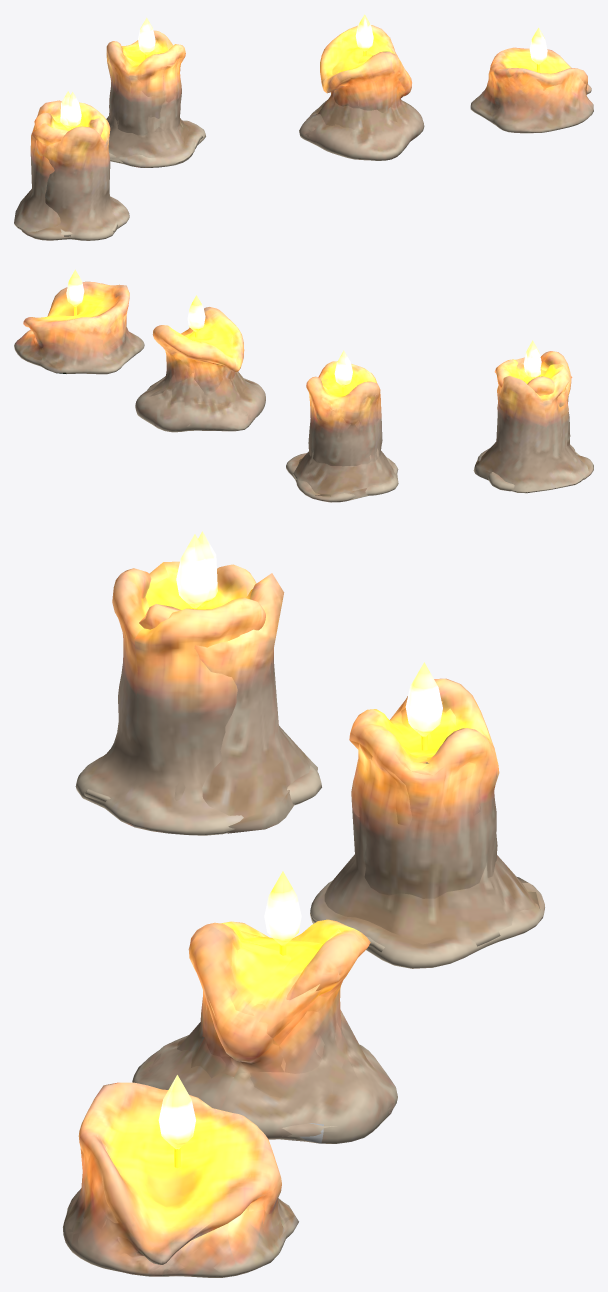
The model's file is Circus stuff candles 8.fbx.
3 renders of one model, top to bottom at view 1: azimuth 30°, elevation 25°; view 2: azimuth 150°, elevation 25°; view 3: azimuth 270°, elevation 25°, orthographic. The views are drawn at different scales.
Visible parts, largest first — view 1: polySurface59600; view 2: polySurface59600; view 3: polySurface59600.
Boxes of the visible parts, x1=… form: polySurface59600: x1=14, y1=14, x2=593, y2=240; polySurface59600: x1=14, y1=269, x2=593, y2=502; polySurface59600: x1=63, y1=531, x2=544, y2=1277.
Bounding box in the file's own units: 94.83 × 21.64 × 35.21.
